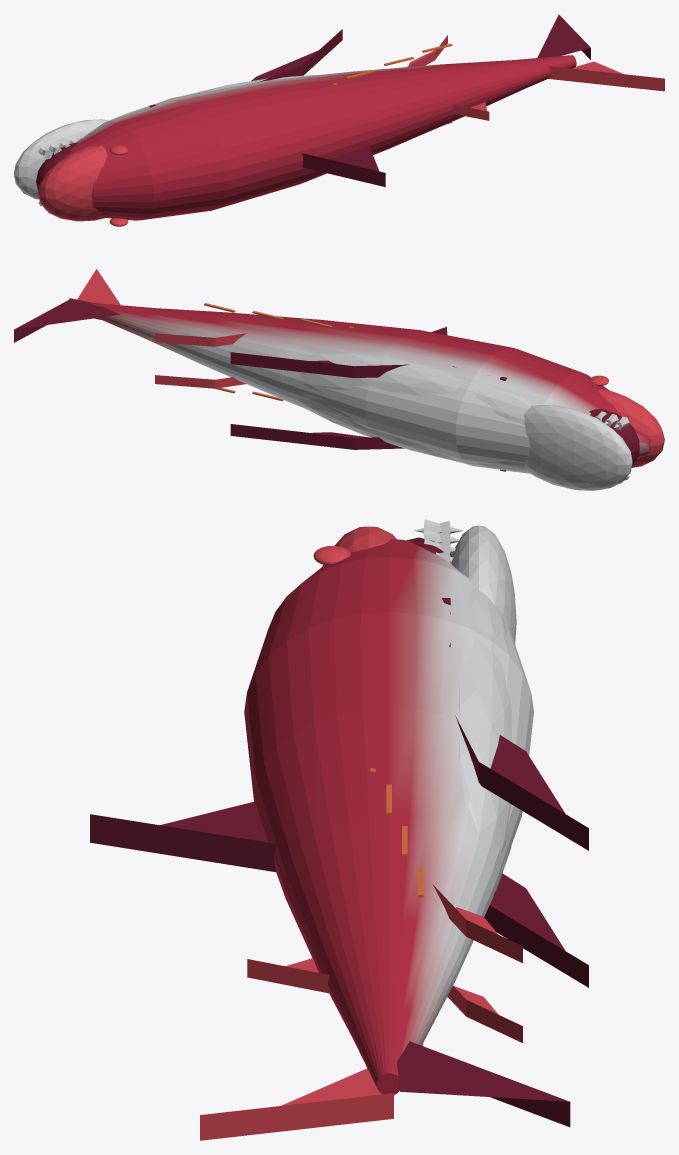
Rendered from Megalodon_Red.glb.
The picture shows the model from 3 angles, top to bottom: view 1: azimuth 30°, elevation 25°; view 2: azimuth 150°, elevation 25°; view 3: azimuth 270°, elevation 25°; orthographic projection. The views are drawn at different scales.
Visible parts, largest first — view 1: Megalodon_Body, Upper_Snout, Lower_Jaw, Dorsal_Fin, Tail_Upper, Tail_Lower, Pectoral_Fin_1, Mouth_Cavity, Rear_Dorsal_Fin, Pelvic_Fin_1, White_Belly; view 2: Megalodon_Body, Lower_Jaw, White_Belly, Pectoral_Fin_-1, Pectoral_Fin_1, Upper_Snout, Tail_Lower, Tail_Upper, Pelvic_Fin_1, Pelvic_Fin_-1, Mouth_Cavity; view 3: Megalodon_Body, White_Belly, Dorsal_Fin, Tail_Upper, Tail_Lower, Pectoral_Fin_1, Pectoral_Fin_-1, Lower_Jaw, Rear_Dorsal_Fin, Pelvic_Fin_1, Pelvic_Fin_-1, Upper_Snout.
Boxes of the visible parts, x1,y1,x2,y2 form: Megalodon_Body: (38,55,576,220); Upper_Snout: (38,145,107,221); Lower_Jaw: (14,119,109,199); Dorsal_Fin: (302,146,385,186); Tail_Upper: (548,61,664,91); Tail_Lower: (537,14,590,59); Pectoral_Fin_1: (251,29,342,81); Mouth_Cavity: (36,142,77,190); Rear_Dorsal_Fin: (453,102,489,120); Pelvic_Fin_1: (407,35,447,67); White_Belly: (111,74,317,119); Megalodon_Body: (93,303,650,473); Lower_Jaw: (524,405,632,490); White_Belly: (296,353,534,472); Pectoral_Fin_-1: (230,424,404,449); Pectoral_Fin_1: (230,352,408,377); Upper_Snout: (598,389,664,467); Tail_Lower: (14,299,120,342); Tail_Upper: (69,269,120,305); Pelvic_Fin_1: (155,333,247,346); Pelvic_Fin_-1: (155,375,245,388); Mouth_Cavity: (589,409,639,464); Megalodon_Body: (244,539,533,1094); White_Belly: (458,587,512,891); Dorsal_Fin: (90,802,276,872); Tail_Upper: (200,1068,393,1140); Tail_Lower: (396,1041,570,1127); Pectoral_Fin_1: (455,715,588,850); Pectoral_Fin_-1: (484,873,588,987); Lower_Jaw: (451,525,516,644); Rear_Dorsal_Fin: (247,958,329,993); Pelvic_Fin_1: (432,884,522,963); Pelvic_Fin_-1: (447,986,522,1042); Upper_Snout: (322,526,396,566).
Size of the model in its own units: 8.55 by 1.4 by 3.17.
